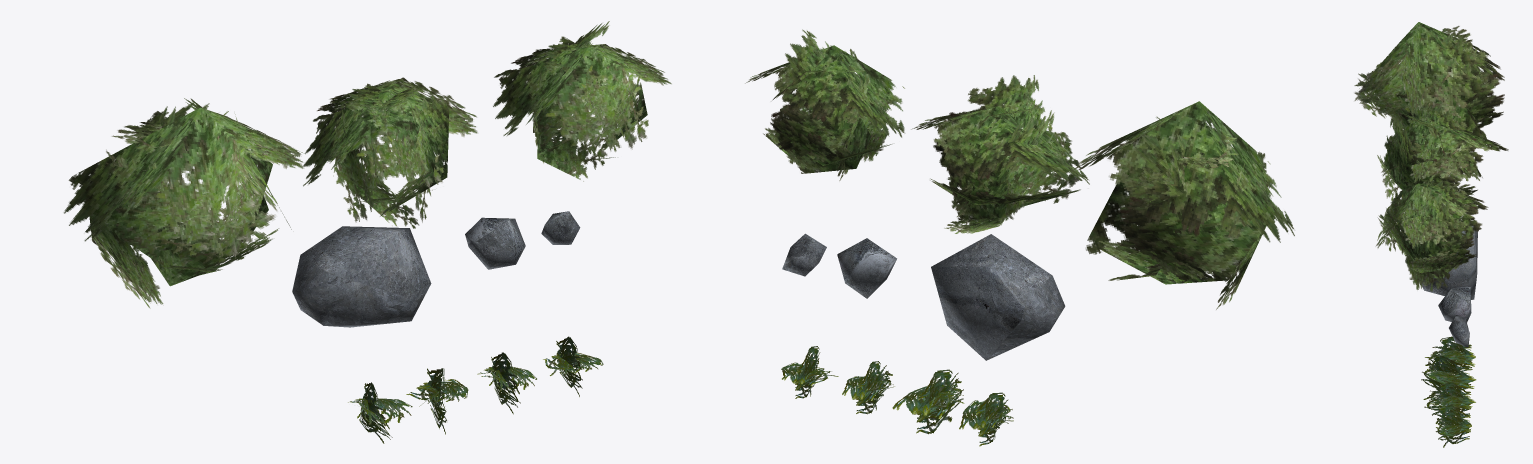
The model's file is forest_zoo.glb.
3 views of the same model, side by side, from view 1: azimuth 30°, elevation 25°; view 2: azimuth 150°, elevation 25°; view 3: azimuth 270°, elevation 25° (orthographic). The views are drawn at different scales.
Parts seen in each view (by area): view 1: Bush_Mesh3, Bush_Mesh2, Bush_Mesh, Rock_Mesh2.001, Rock_Mesh2, Grass_Mesh4, Grass_Mesh3, Grass_Mesh2, Grass_Mesh, Rock_Mesh; view 2: Bush_Mesh3, Bush_Mesh2, Bush_Mesh, Rock_Mesh2.001, Rock_Mesh2, Grass_Mesh3, Grass_Mesh4, Grass_Mesh2, Grass_Mesh, Rock_Mesh; view 3: Bush_Mesh3, Bush_Mesh, Bush_Mesh2, Rock_Mesh2.001, Grass_Mesh3, Grass_Mesh, Grass_Mesh2, Rock_Mesh2, Grass_Mesh4, Rock_Mesh.
Part boxes in pixels (x1,y1,x2,y2): Bush_Mesh3: [63, 98, 305, 308]; Bush_Mesh2: [303, 77, 477, 228]; Bush_Mesh: [493, 21, 671, 181]; Rock_Mesh2.001: [292, 226, 431, 327]; Rock_Mesh2: [465, 217, 525, 269]; Grass_Mesh4: [348, 382, 412, 443]; Grass_Mesh3: [406, 368, 468, 434]; Grass_Mesh2: [477, 352, 536, 414]; Grass_Mesh: [543, 336, 603, 396]; Rock_Mesh: [541, 211, 580, 244]; Bush_Mesh3: [1069, 101, 1294, 309]; Bush_Mesh2: [911, 75, 1089, 233]; Bush_Mesh: [745, 29, 904, 180]; Rock_Mesh2.001: [931, 234, 1065, 360]; Rock_Mesh2: [837, 238, 896, 298]; Grass_Mesh3: [892, 369, 964, 434]; Grass_Mesh4: [959, 392, 1013, 446]; Grass_Mesh2: [842, 361, 894, 414]; Grass_Mesh: [781, 346, 838, 398]; Rock_Mesh: [782, 233, 826, 276]; Bush_Mesh3: [1354, 22, 1504, 149]; Bush_Mesh: [1375, 179, 1488, 291]; Bush_Mesh2: [1377, 102, 1508, 221]; Rock_Mesh2.001: [1422, 226, 1477, 299]; Grass_Mesh3: [1421, 355, 1476, 397]; Grass_Mesh: [1435, 405, 1471, 447]; Grass_Mesh2: [1423, 382, 1475, 421]; Rock_Mesh2: [1438, 286, 1471, 322]; Grass_Mesh4: [1425, 336, 1475, 371]; Rock_Mesh: [1449, 315, 1469, 347].
Size of the model in its own units: 9.31 by 6.06 by 3.17.
Materials: 3 (3 with a texture image).
